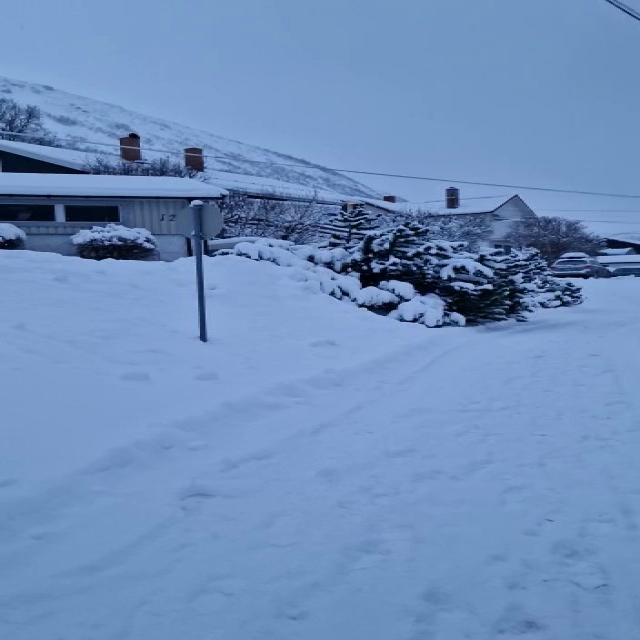path: (0, 275, 640, 640)
